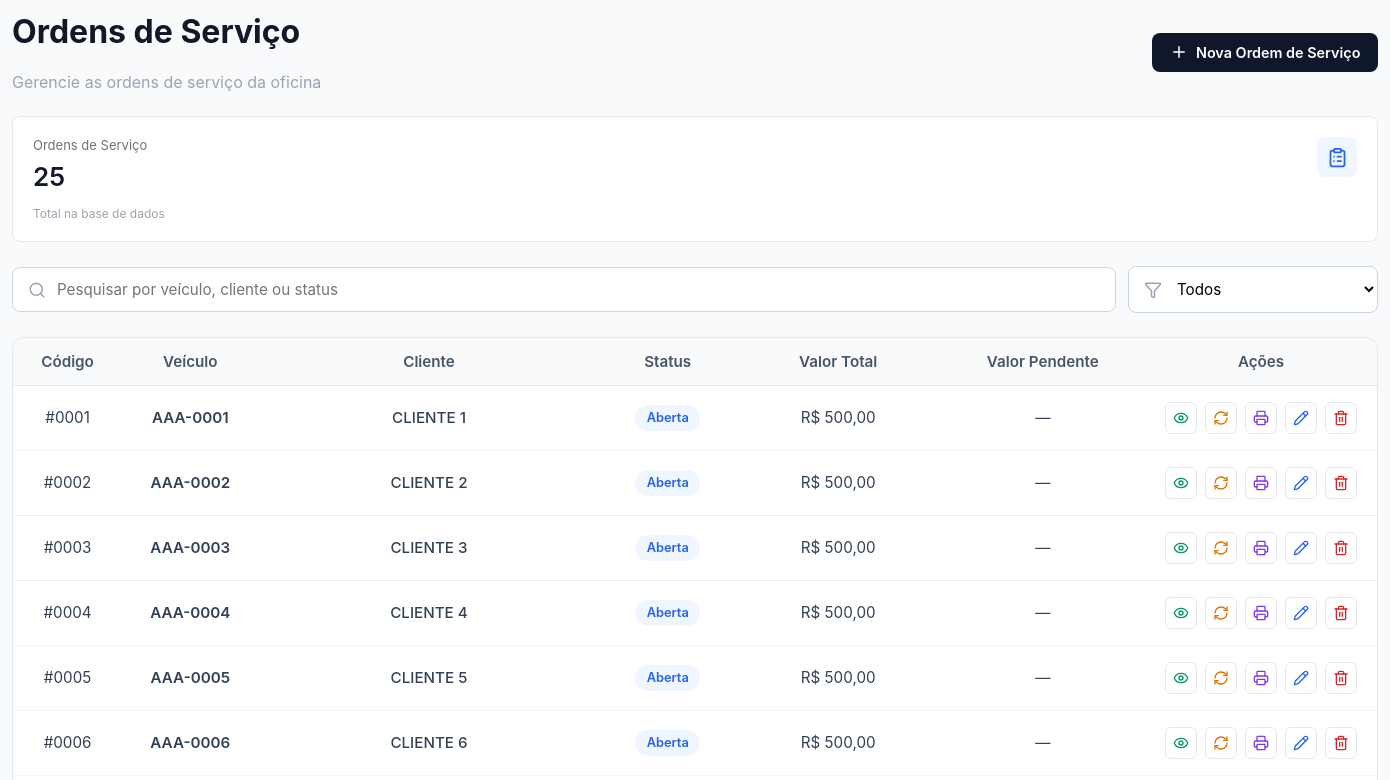
Scenario: Página de Ordens de Serviço › pesquisa e filtros (no servidor) › acha a OS que NÃO estava na página carregada (a busca não filtra só o que já veio)
The image size is (1390, 780).
Check: the text "#0001" is shown, box [13,385,122,450]
Check: the text "#0025" is not shown
Type "zzz9999" into the field with placeholder "Pesquisar por veículo, cliente ou status" at (564, 290), box [12,267,1116,312]
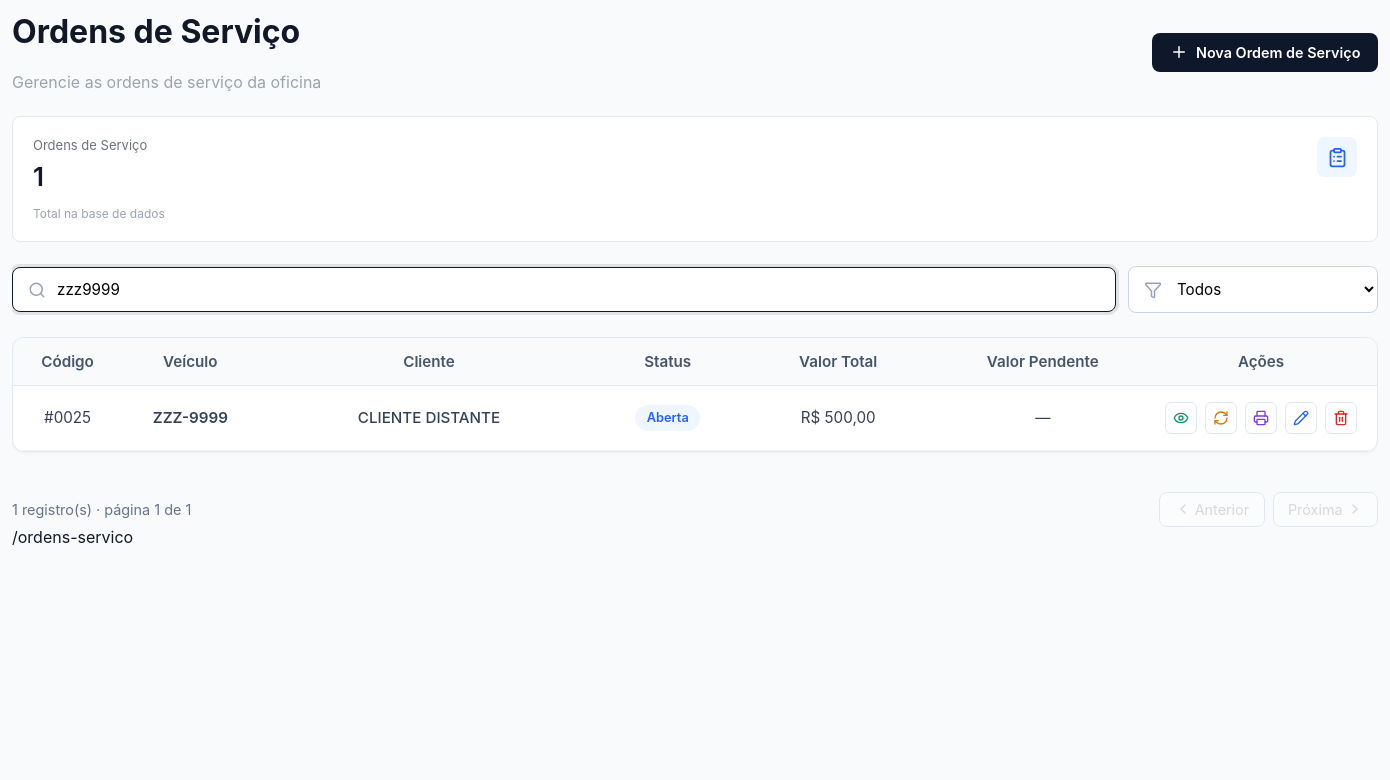
Check: the text "#0025" is shown, box [13,385,122,450]
Check: the text "#0001" is gone
Check: the text "1 registro(s) · página 1 de 1" is shown, box [12,501,191,518]
